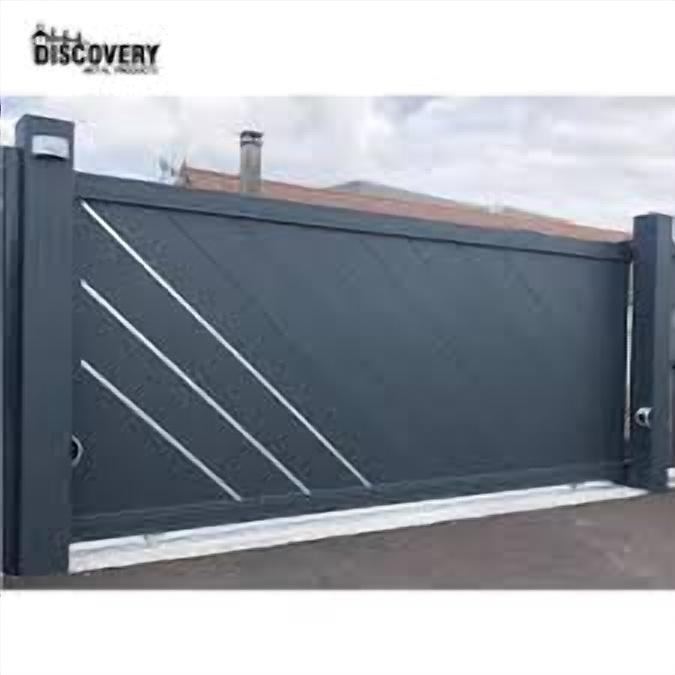Gate: (60, 169, 636, 546)
